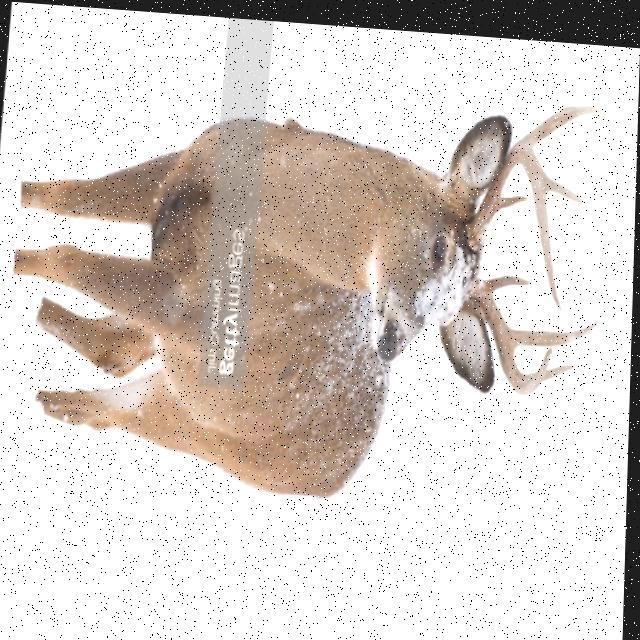L-F: (468, 131, 564, 303)
L-G1: (499, 186, 531, 203)
L-G2: (521, 95, 606, 140)
L-G3: (547, 166, 588, 195)
R-F: (471, 272, 555, 387)
R-G1: (486, 266, 533, 285)
R-G2: (513, 309, 602, 341)
